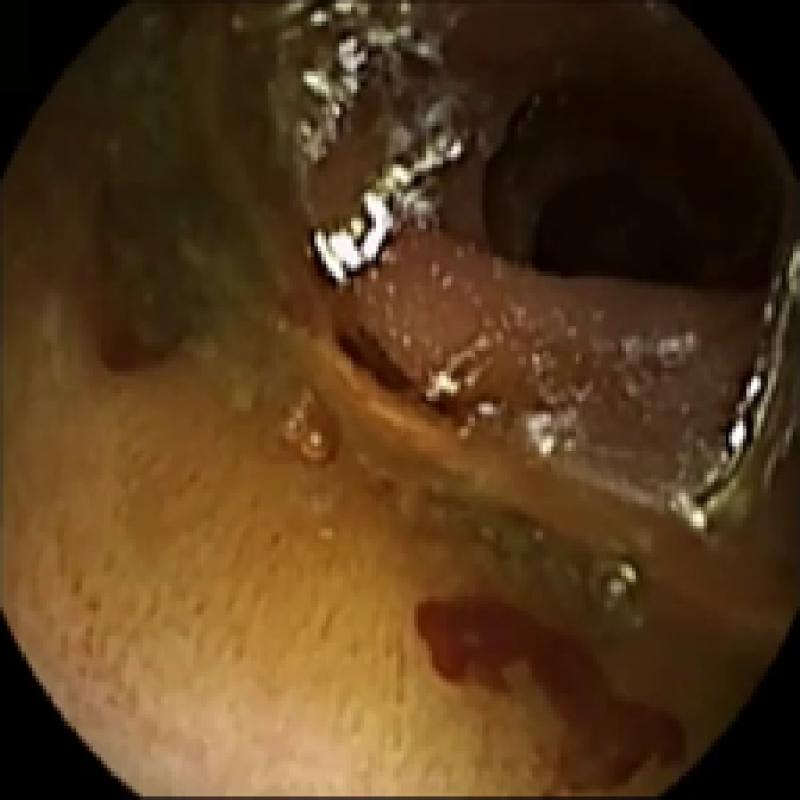bleeding: (413, 591, 686, 786), (336, 322, 490, 421), (100, 200, 175, 368)
